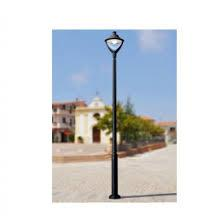Animal: (98, 30, 131, 204)
